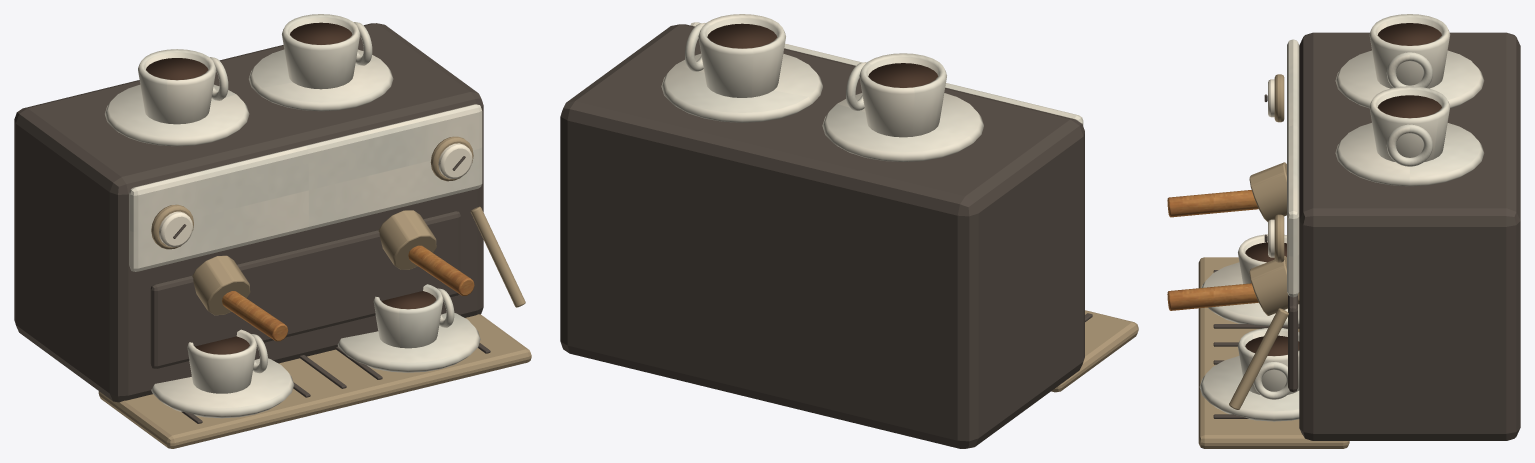
Rendered from WC_CAFE_Espresso_A.glb.
3 renders of one model, left to right at view 1: azimuth 30°, elevation 25°; view 2: azimuth 150°, elevation 25°; view 3: azimuth 270°, elevation 25°, orthographic. The views are drawn at different scales.
Parts seen in each view (by area): view 1: WC_CAFE_Espresso_A_RenderMesh; view 2: WC_CAFE_Espresso_A_RenderMesh; view 3: WC_CAFE_Espresso_A_RenderMesh.
Boxes of the visible parts, left/top/right/bottom form: WC_CAFE_Espresso_A_RenderMesh: left=14, top=14, right=531, bottom=448; WC_CAFE_Espresso_A_RenderMesh: left=560, top=14, right=1138, bottom=448; WC_CAFE_Espresso_A_RenderMesh: left=1167, top=14, right=1520, bottom=448.
Bounding box in the file's own units: 0.8905 × 0.6443 × 0.7019.
Materials: 6 (2 with a texture image).
